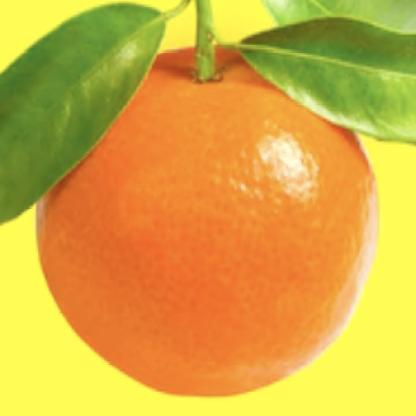fresh: (37, 40, 379, 401)
